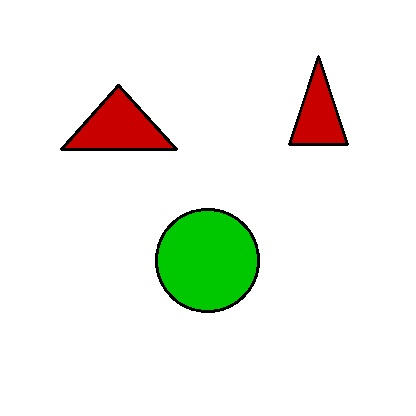circle: (156, 202, 258, 318)
triangle: (61, 85, 176, 149), (289, 56, 347, 144)
